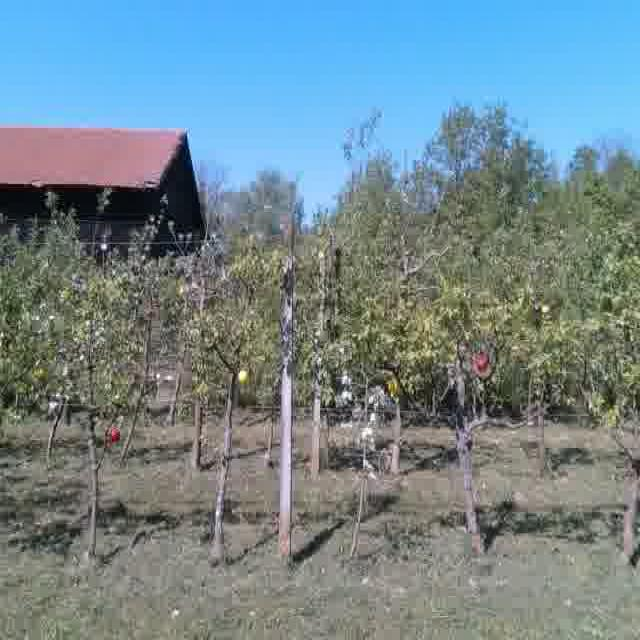red: (105, 426, 122, 443), (475, 351, 489, 371)
yellow: (236, 368, 248, 382)
